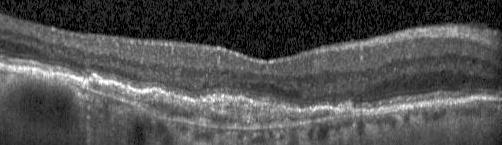subretinal_hyperreflective_material: (56, 73, 361, 125)
